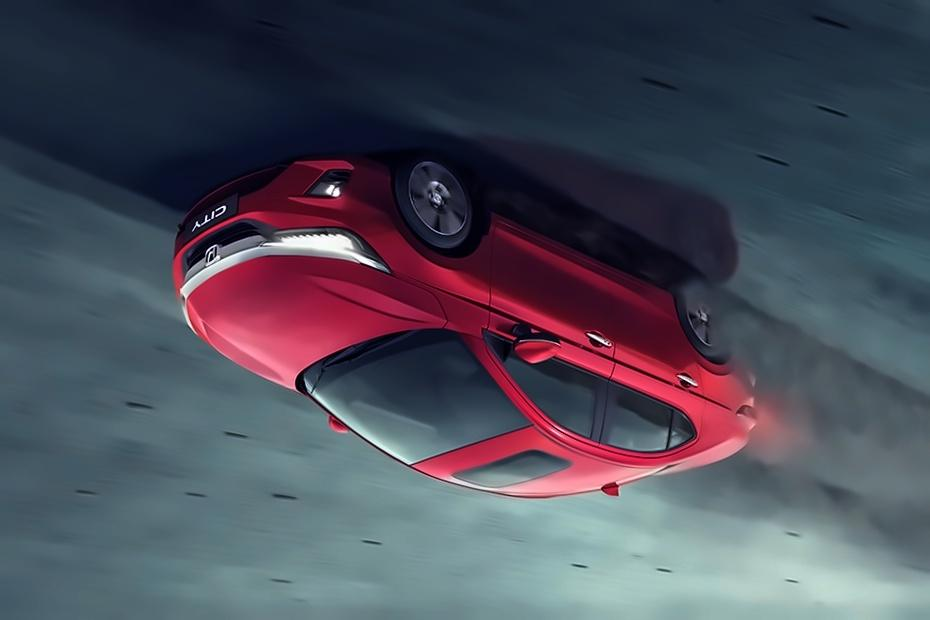Car hood: (176, 253, 462, 391)
Driver-s door - -F-R-: (467, 188, 612, 469)
Fender - -F-R-: (377, 152, 501, 336)
Fender - -R-R-: (665, 297, 765, 459)
Front bumper: (163, 148, 415, 310)
Headlight - -R-: (260, 227, 396, 283)
Passenger-s door - -R-R-: (582, 235, 713, 482)
Side bumper - -R-: (490, 209, 685, 328)
Side mirror - -R-: (487, 319, 562, 364)
